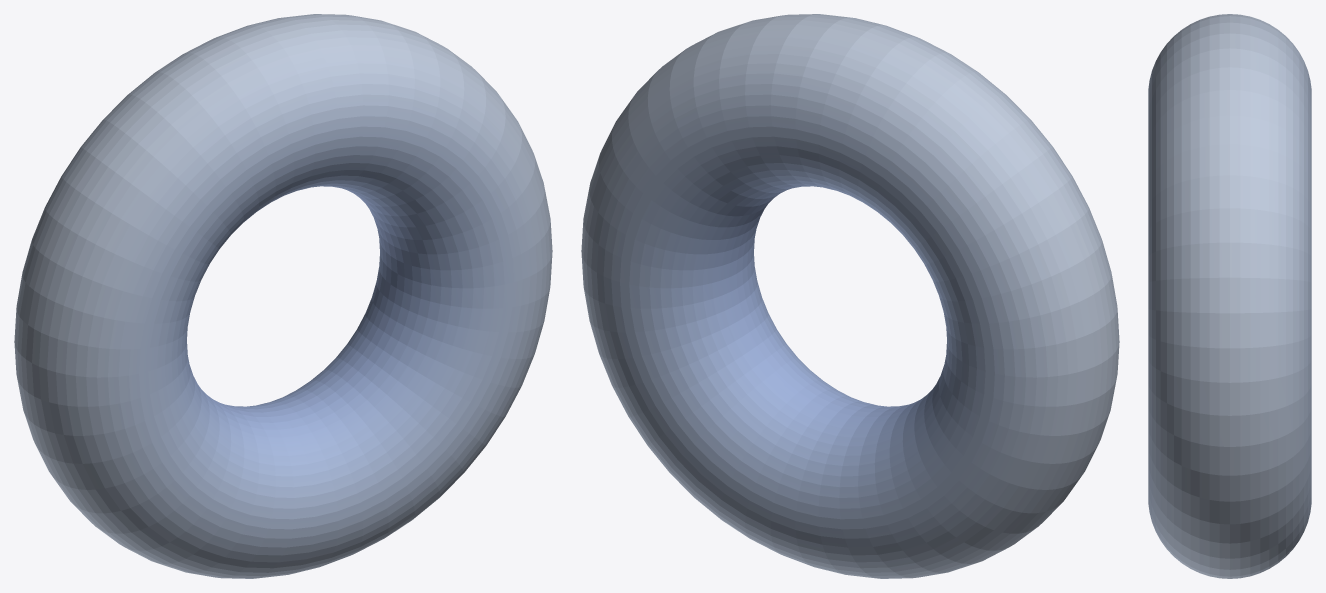
The picture shows the model from 3 angles, left to right: view 1: azimuth 30°, elevation 25°; view 2: azimuth 150°, elevation 25°; view 3: azimuth 270°, elevation 25°; orthographic projection. The views are drawn at different scales.
Visible parts, largest first — view 1: world; view 2: world; view 3: world.
Part boxes in pixels (x1,y1,x2,y2): world: (14,14,552,578); world: (581,14,1119,578); world: (1148,14,1311,578).
Bounding box in the file's own units: 21.6 × 21.56 × 6.25.
